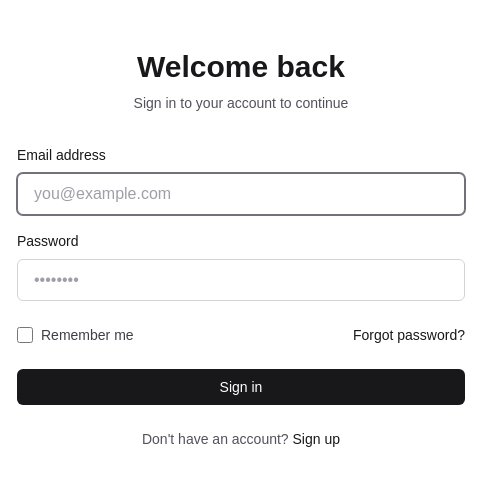
Test: Login Page › should show error when email is empty
Type "password123" into the password field labelled "Password".
click(241, 280); type("password123")  # box [17,259,465,301]
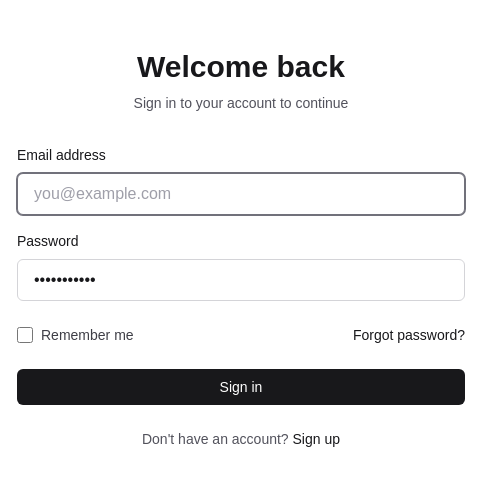
Click the button "Sign in".
click(241, 387)  # box [17,369,465,405]
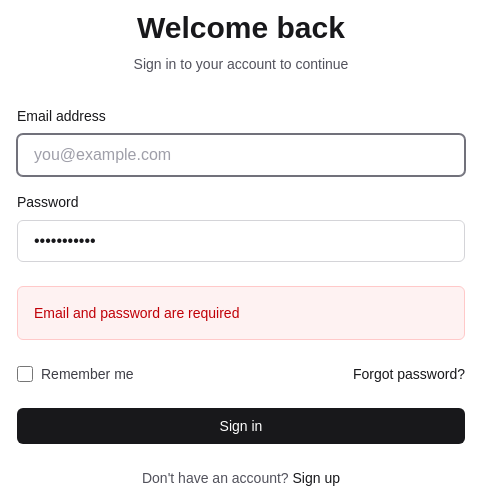
Check: the text "Email and password are required" is shown, box [34,305,240,321]
